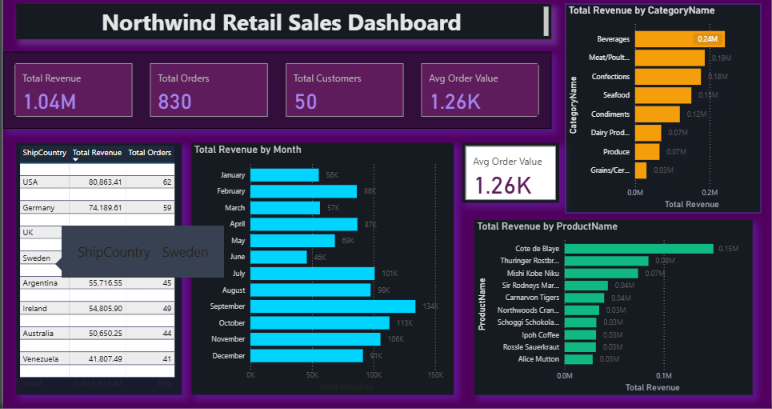

The dashboard page shown, as its layout file describes it:
{"tool":"powerbi","page":{"name":"Sales Overview","canvas":[1280,720],"ordinal":0},"visuals":[{"type":"cardVisual","fields":{"Data":["Order Details.Total Revenue","Order Details.Total Orders","Order Details.Total Customers","Order Details.Avg Order Value"]},"box":[0,124.9,913.9,127.6],"z":0},{"type":"clusteredBarChart","fields":{"Category":["Categories.CategoryName"],"Y":["Order Details.Total Revenue"]},"box":[937.2,45.3,326.6,348.5],"z":1000},{"type":"clusteredBarChart","fields":{"Category":["Orders.OrderDate.Variation.Date Hierarchy.Month"],"Y":["Order Details.Total Revenue"]},"box":[312.9,277.2,437.7,419.9],"z":2000},{"type":"clusteredBarChart","fields":{"Category":["Products.ProductName"],"Y":["Order Details.Total Revenue"]},"box":[784.9,404.8,463.8,292.3],"z":3000},{"type":"tableEx","fields":{"Values":["Orders.ShipCountry","Order Details.Total Revenue","Order Details.Total Orders"]},"box":[22,277.2,275.8,419.9],"z":4000},{"type":"cardVisual","fields":{"Data":["Order Details.Avg Order Value"]},"box":[764.3,277.2,161.9,100.2],"z":5000},{"type":"textbox","box":[22,45.3,891.9,59],"z":6000}]}

Visuals, with their boxes on the page's 1280x720 design canvas (x1, y1, x2, y2). These are canvas units, not pixel positions in the 772x409 screenshot, which may show the page scaled, cropped or inside an application window:
cardVisual - Order Details.Total Revenue x Order Details.Total Orders: 0,125,914,252
clusteredBarChart - Categories.CategoryName x Order Details.Total Revenue: 937,45,1264,394
clusteredBarChart - Orders.OrderDate.Variation.Date Hierarchy.Month x Order Details.Total Revenue: 313,277,751,697
clusteredBarChart - Products.ProductName x Order Details.Total Revenue: 785,405,1249,697
tableEx - Orders.ShipCountry x Order Details.Total Revenue: 22,277,298,697
cardVisual - Order Details.Avg Order Value: 764,277,926,377
textbox: 22,45,914,104
